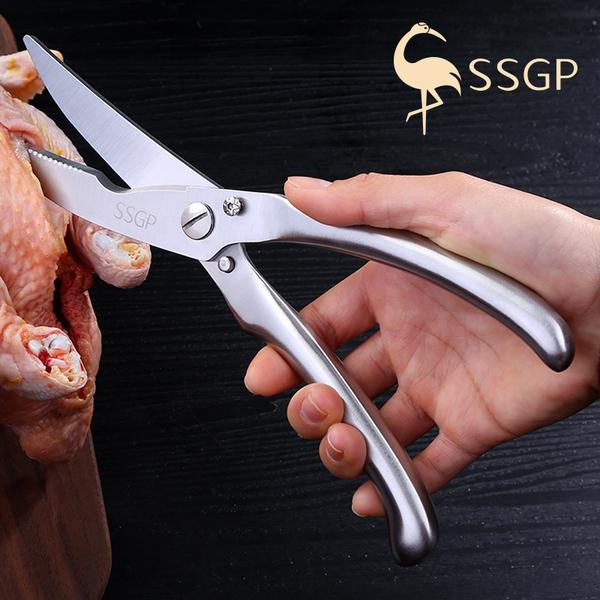scissor: (38, 41, 535, 468)
